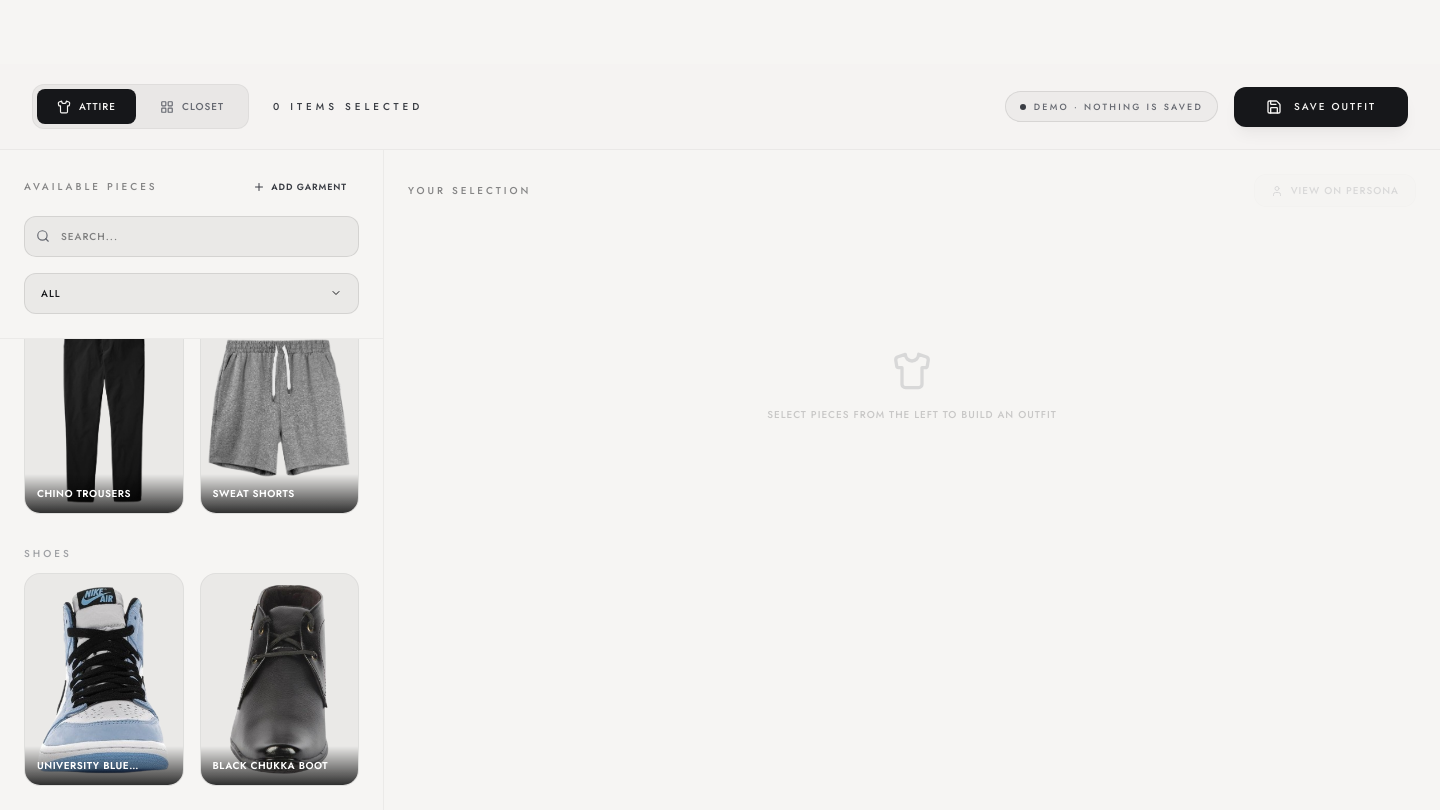
it: DemoPage › one shoe per foot: picking another shoe swaps it and says so
(page scrolled)
Click the element showing "University Blue Sneaker": [104, 680] box [24,574,184,786]
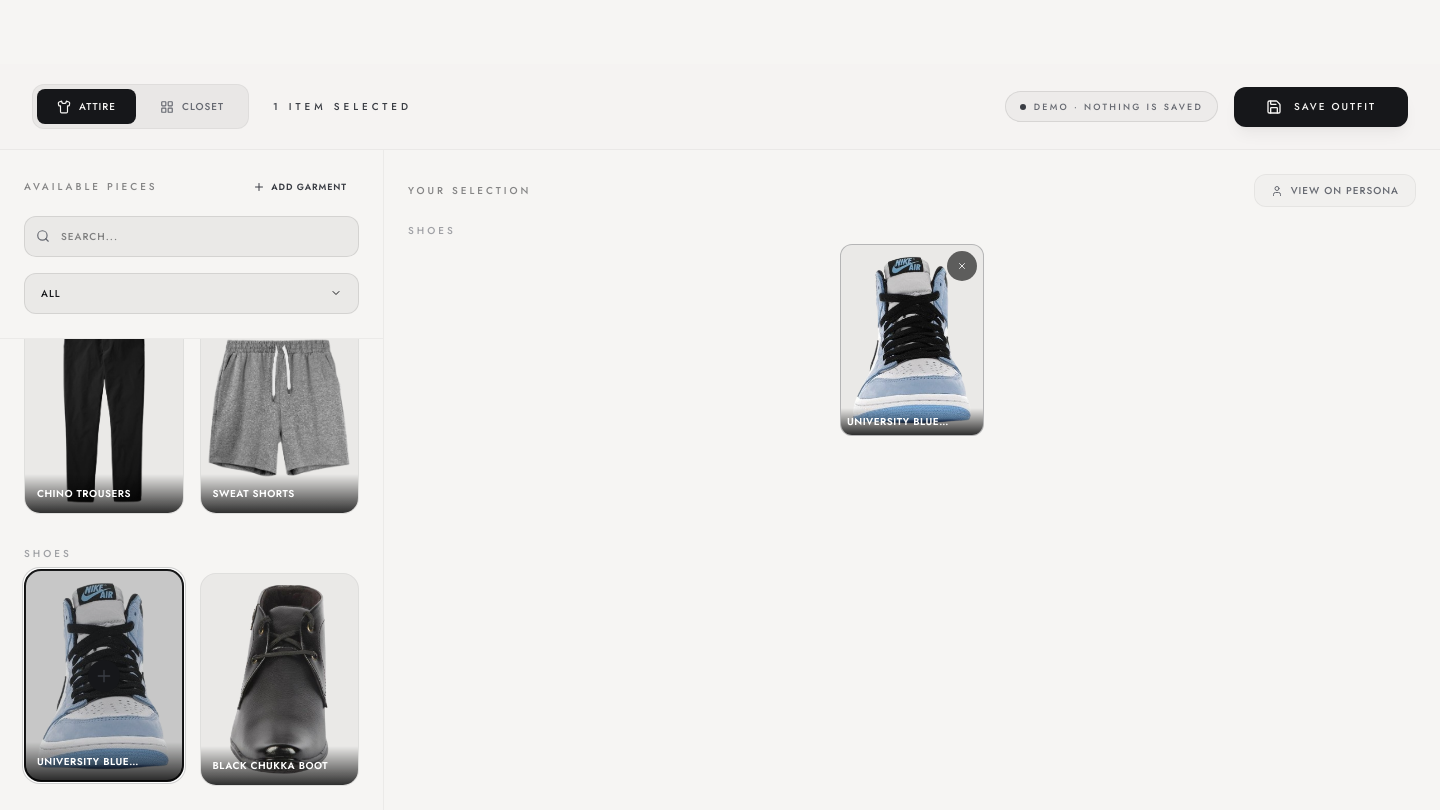
Check: the text "1 Item Selected" is shown, box [273,99,412,114]
Click the element showing "Black Chukka Boot": [279, 680] box [200,574,359,786]
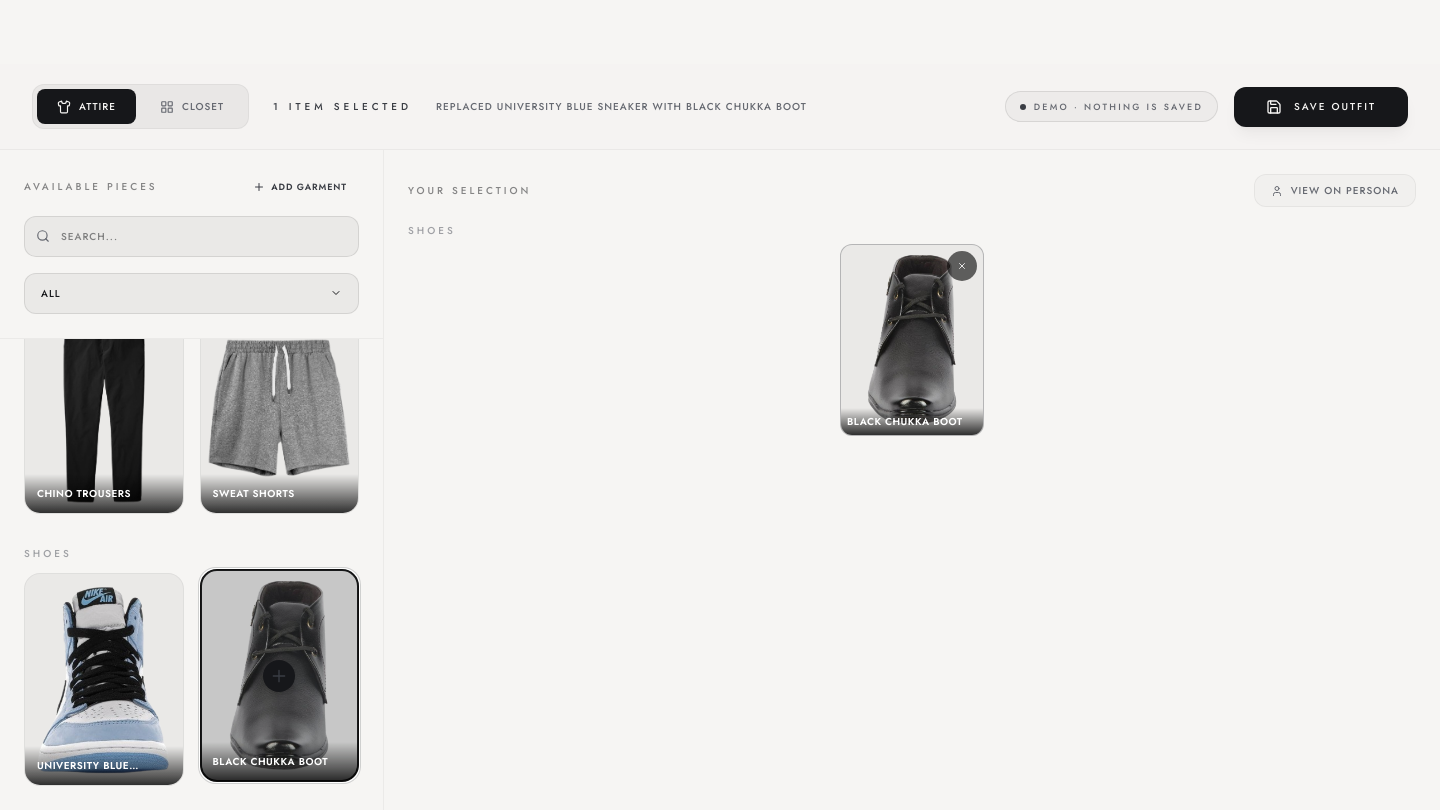
Check: the text "1 Item Selected" is shown, box [273,99,412,114]
Check: the message reads "Replaced University Blue Sneaker with Black Chukka Boot", box [436,99,807,114]
